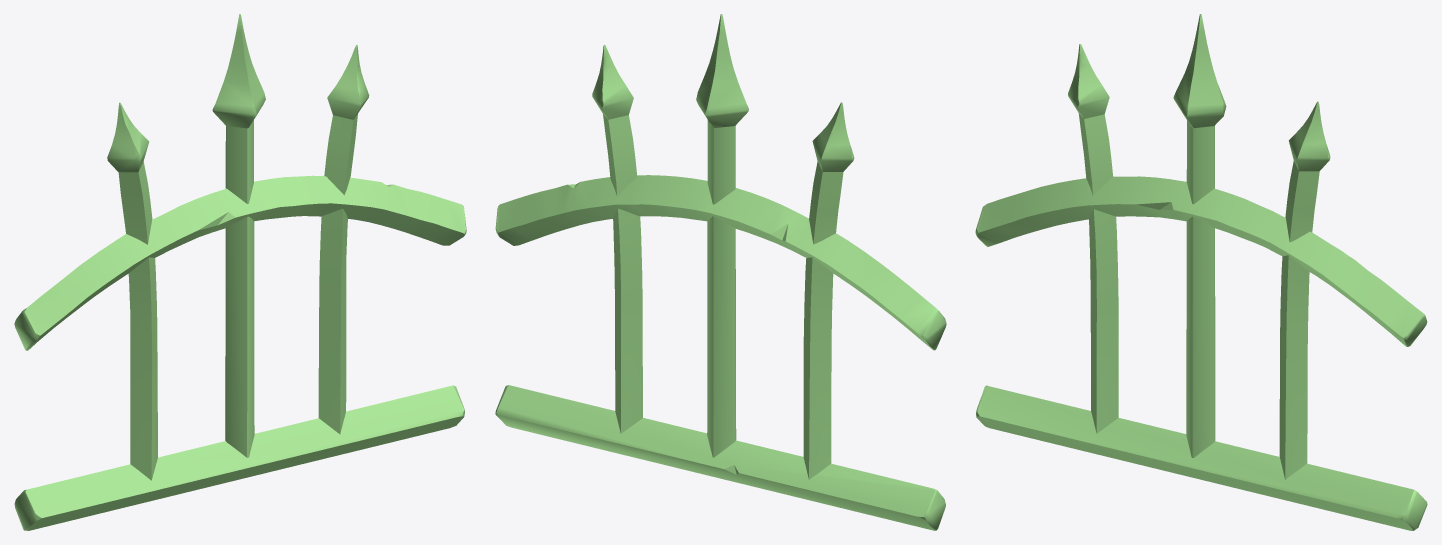
Rendered from SM_Fence_21.fbx.
3 renders of one model, left to right at view 1: azimuth 30°, elevation 25°; view 2: azimuth 150°, elevation 25°; view 3: azimuth 330°, elevation 25°, orthographic.
Parts seen in each view (by area): view 1: SM_Fence_21; view 2: SM_Fence_21; view 3: SM_Fence_21.
Boxes of the visible parts, bbox=[...] form: SM_Fence_21: bbox=[14, 14, 466, 530]; SM_Fence_21: bbox=[495, 14, 946, 530]; SM_Fence_21: bbox=[975, 14, 1427, 530].
Bounding box in the file's own units: 127 × 128 × 15.09.
